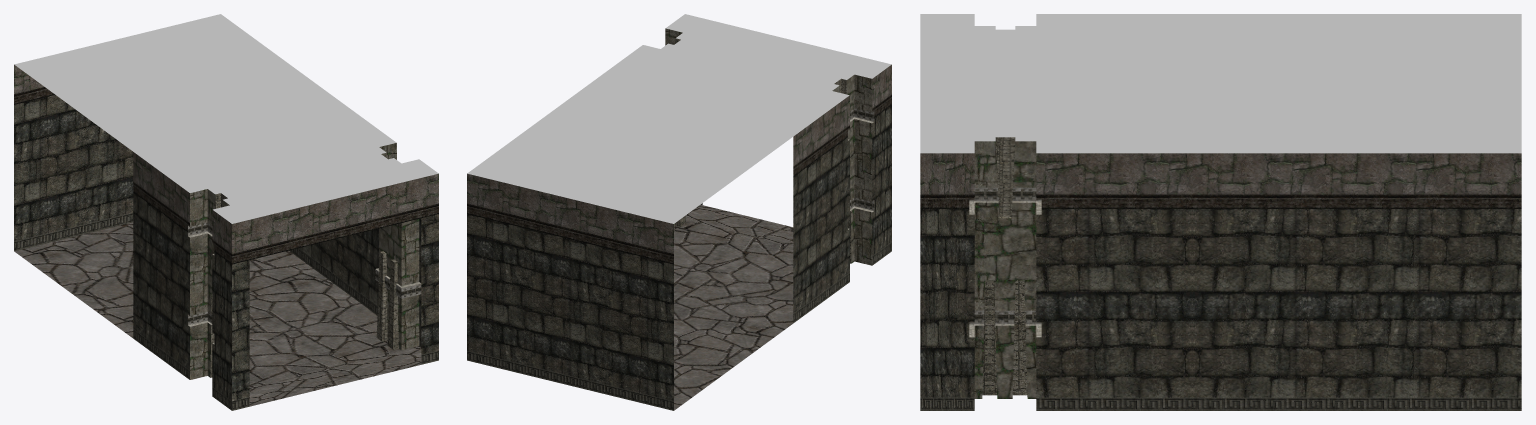
File: thm_yavn_temple_exar_kun_r2_mesh_r2.fbx
3 renders of one model, left to right at view 1: azimuth 30°, elevation 25°; view 2: azimuth 150°, elevation 25°; view 3: azimuth 270°, elevation 25°, orthographic. The views are drawn at different scales.
Parts seen in each view (by area): view 1: mesh_node; view 2: mesh_node; view 3: mesh_node.
Boxes of the visible parts, x1,y1,x2,y2 form: mesh_node: (14, 14, 438, 410); mesh_node: (467, 14, 891, 410); mesh_node: (920, 14, 1521, 410).
Size of the model in its own units: 5.33 by 4.61 by 9.74.
